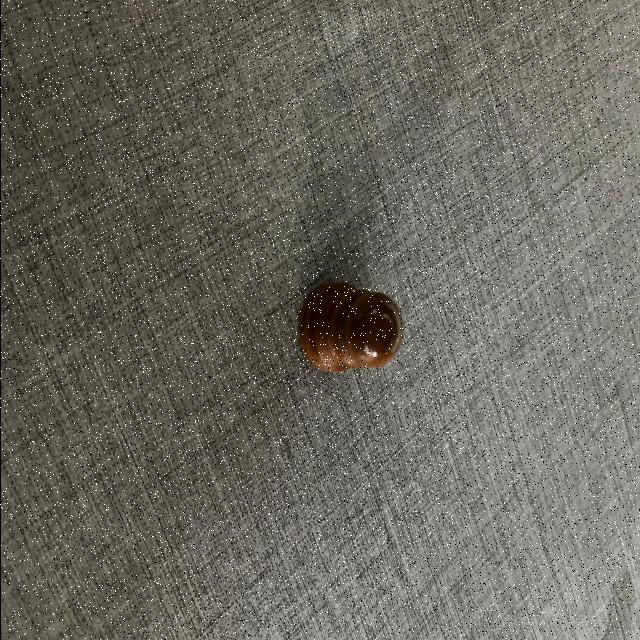Black-Pawn: (302, 281, 401, 376)
